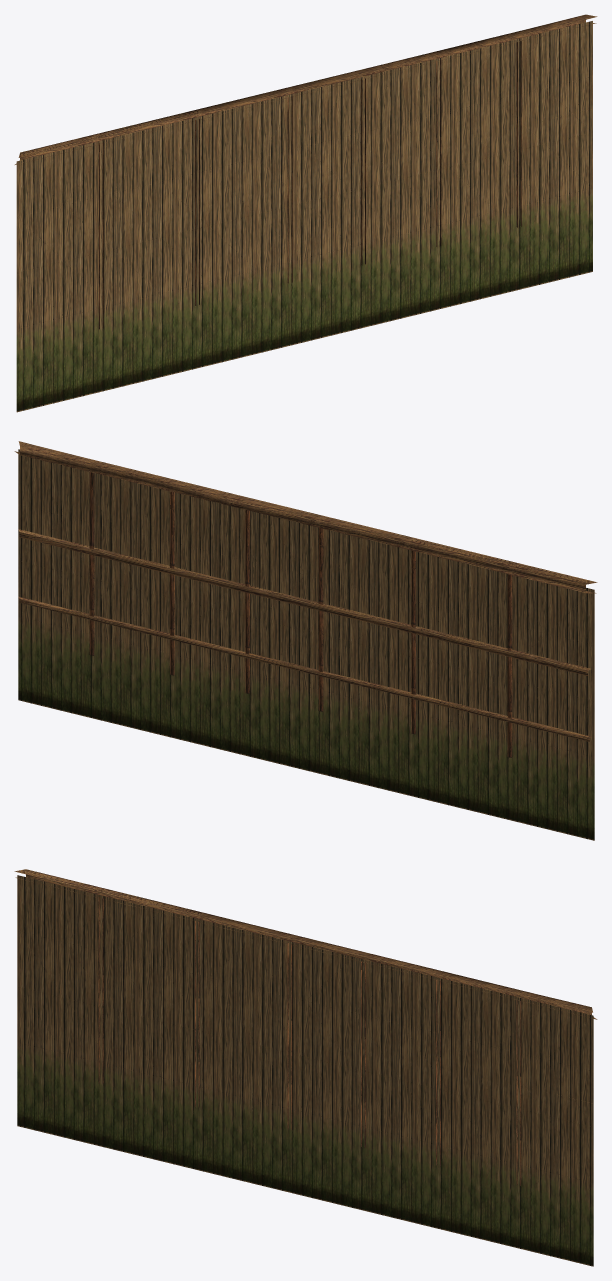
File: LAKETOWN_WAREHOUSE2_PS_WH2_PLATWALL373645__GX.fbx
3 views of the same model, one above another, from view 1: azimuth 30°, elevation 25°; view 2: azimuth 150°, elevation 25°; view 3: azimuth 330°, elevation 25° (orthographic).
Parts seen in each view (by area): view 1: LAKETOWN_WAREHOUSE2_PS_WH2_PLATWALL373645__GX; view 2: LAKETOWN_WAREHOUSE2_PS_WH2_PLATWALL373645__GX; view 3: LAKETOWN_WAREHOUSE2_PS_WH2_PLATWALL373645__GX.
Boxes of the visible parts, <box> form: LAKETOWN_WAREHOUSE2_PS_WH2_PLATWALL373645__GX: <box>15,14,597,412</box>; LAKETOWN_WAREHOUSE2_PS_WH2_PLATWALL373645__GX: <box>14,441,597,840</box>; LAKETOWN_WAREHOUSE2_PS_WH2_PLATWALL373645__GX: <box>14,869,597,1266</box>.
Bounding box in the file's own units: 364459 × 153127 × 5821.
Materials: 5 (5 with a texture image).
